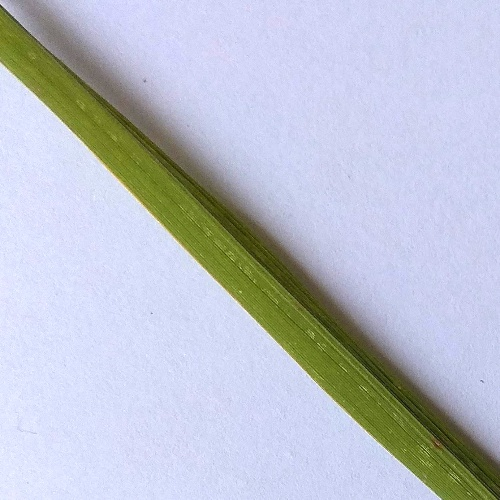Busuk Leher: (425, 419, 453, 460)
